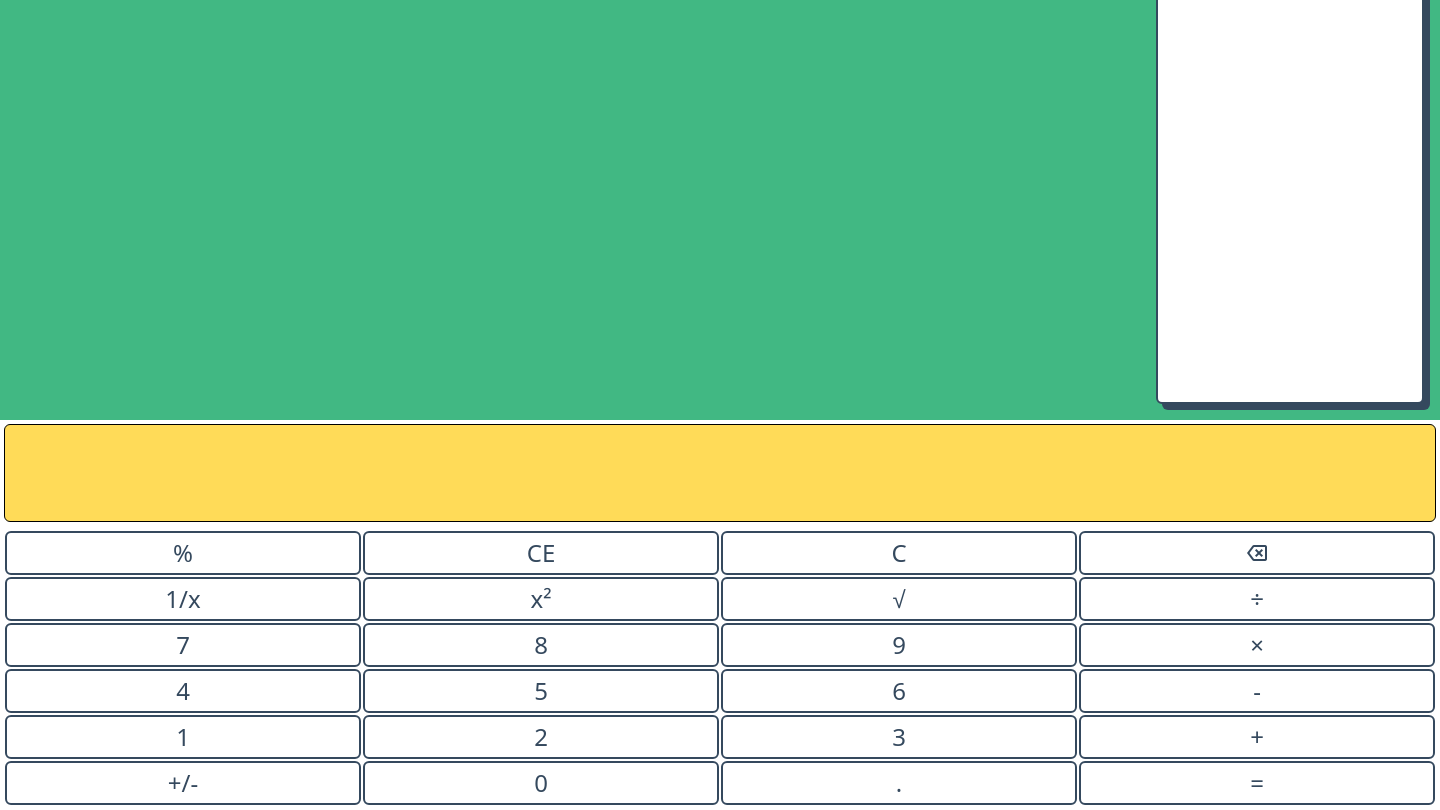
Test case: Component: CalculatorContainer › can append decimal to the rightmost area of entry
The image size is (1440, 810).
(page scrolled)
Click the button with class "digital-button" showing "2": (541, 737) [363,715,719,759]
(page scrolled)
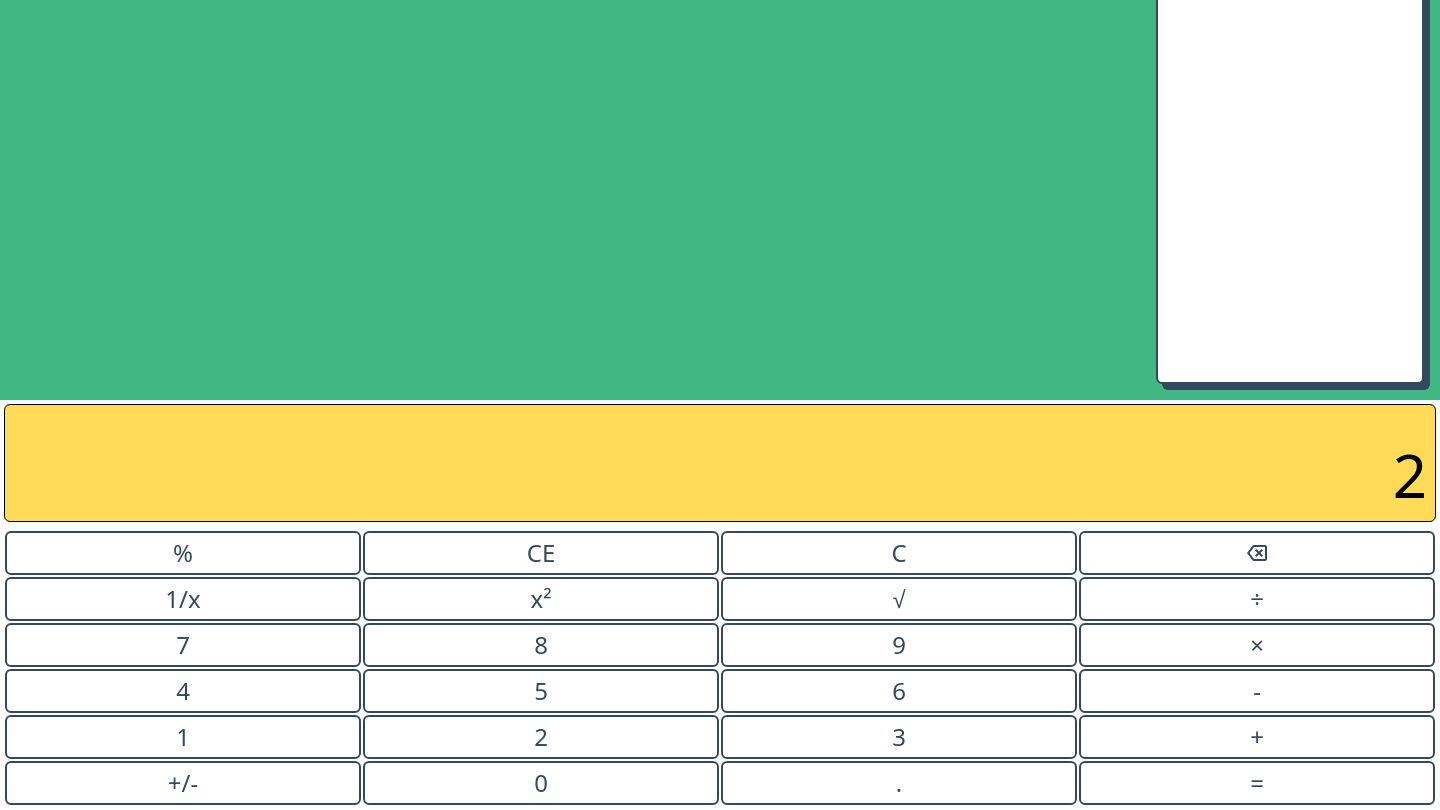
Click the button with class "digital-button" showing ".": (899, 783) [721,761,1077,805]
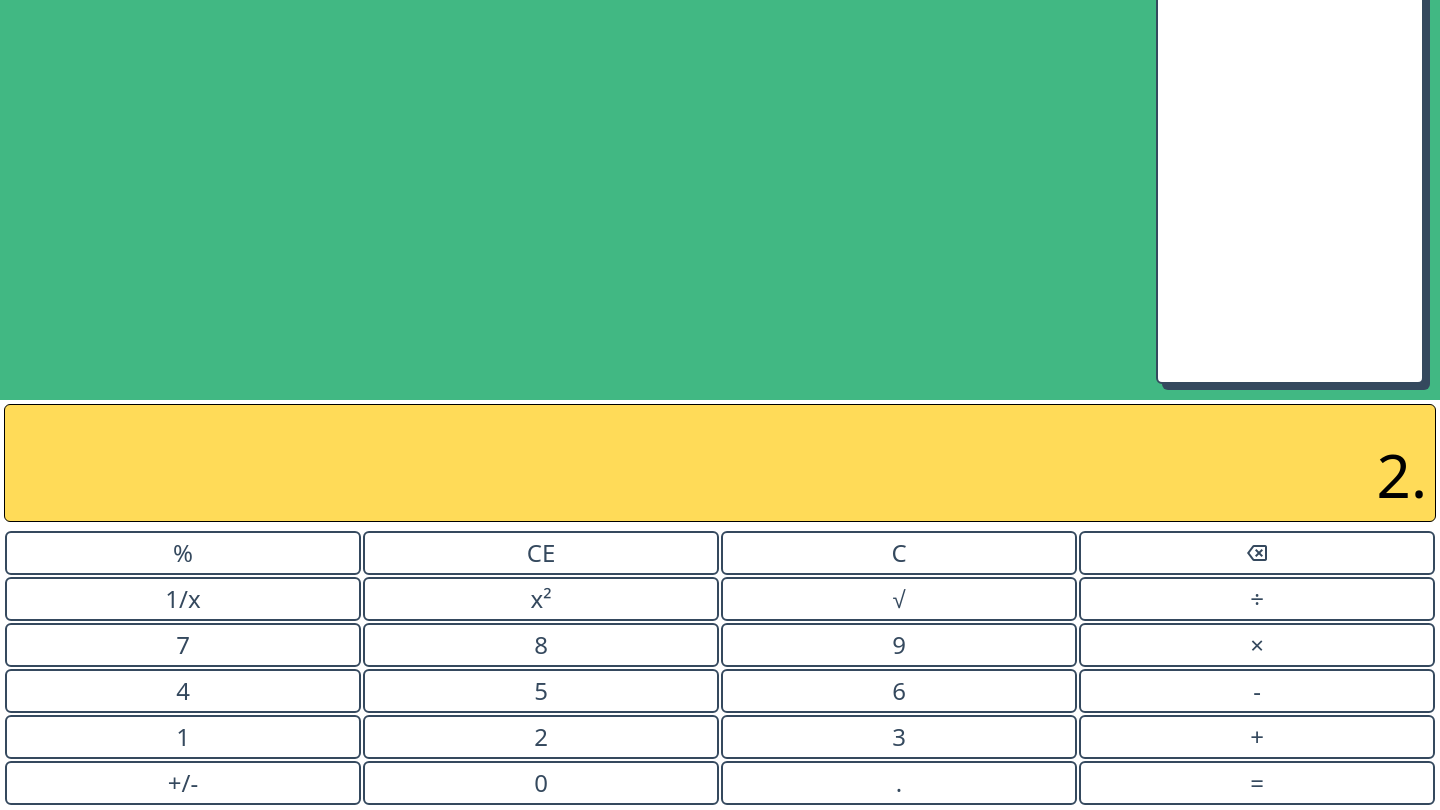
Expected: the text with class "entry-screen" reads "2.", [1377,434,1427,516]
Click the button with class "digital-button" showing "5": (541, 691) [363,669,719,713]
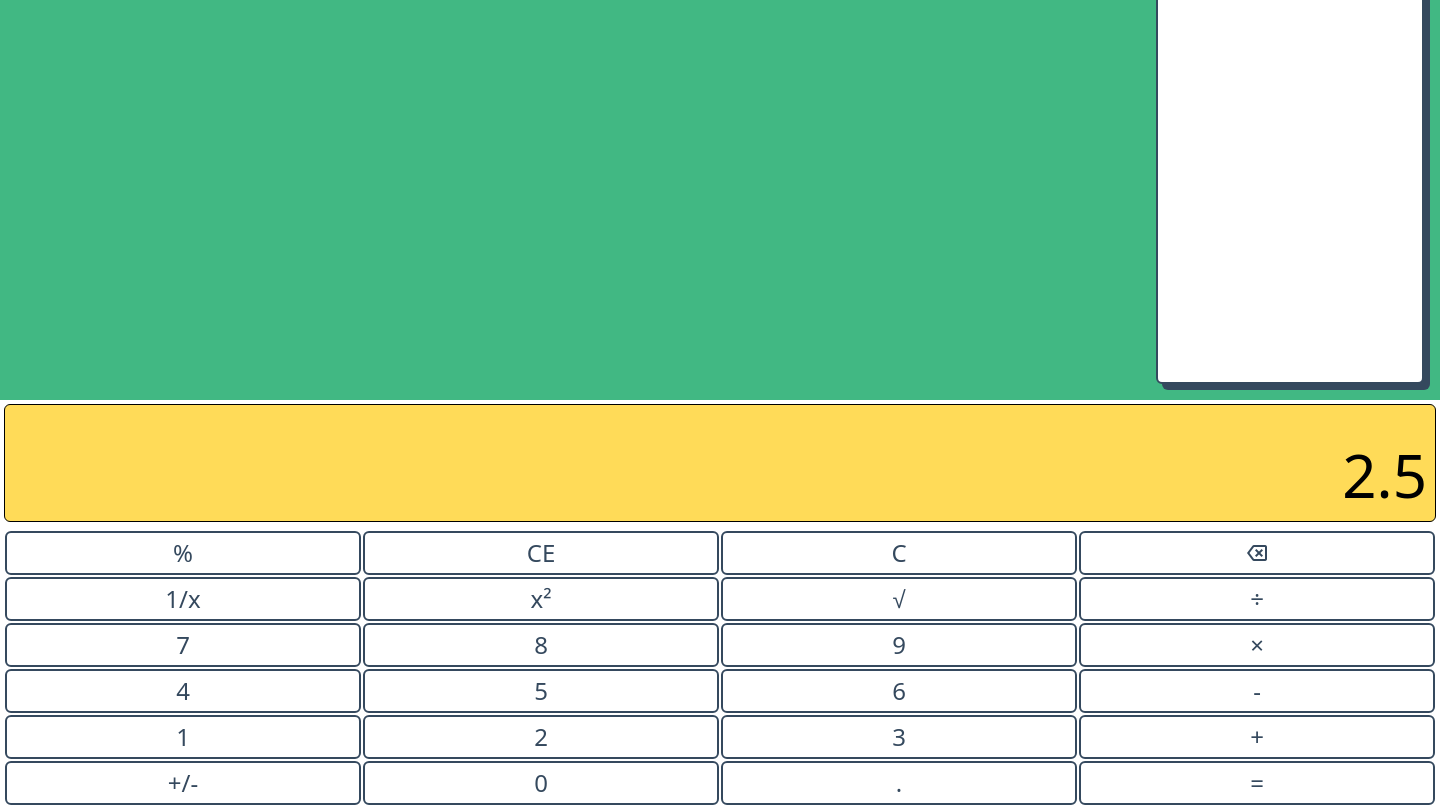
Expected: the text with class "entry-screen" reads "2.5", [1342,434,1427,516]
Click the button with class "digital-button" showing ".": (899, 783) [721,761,1077,805]
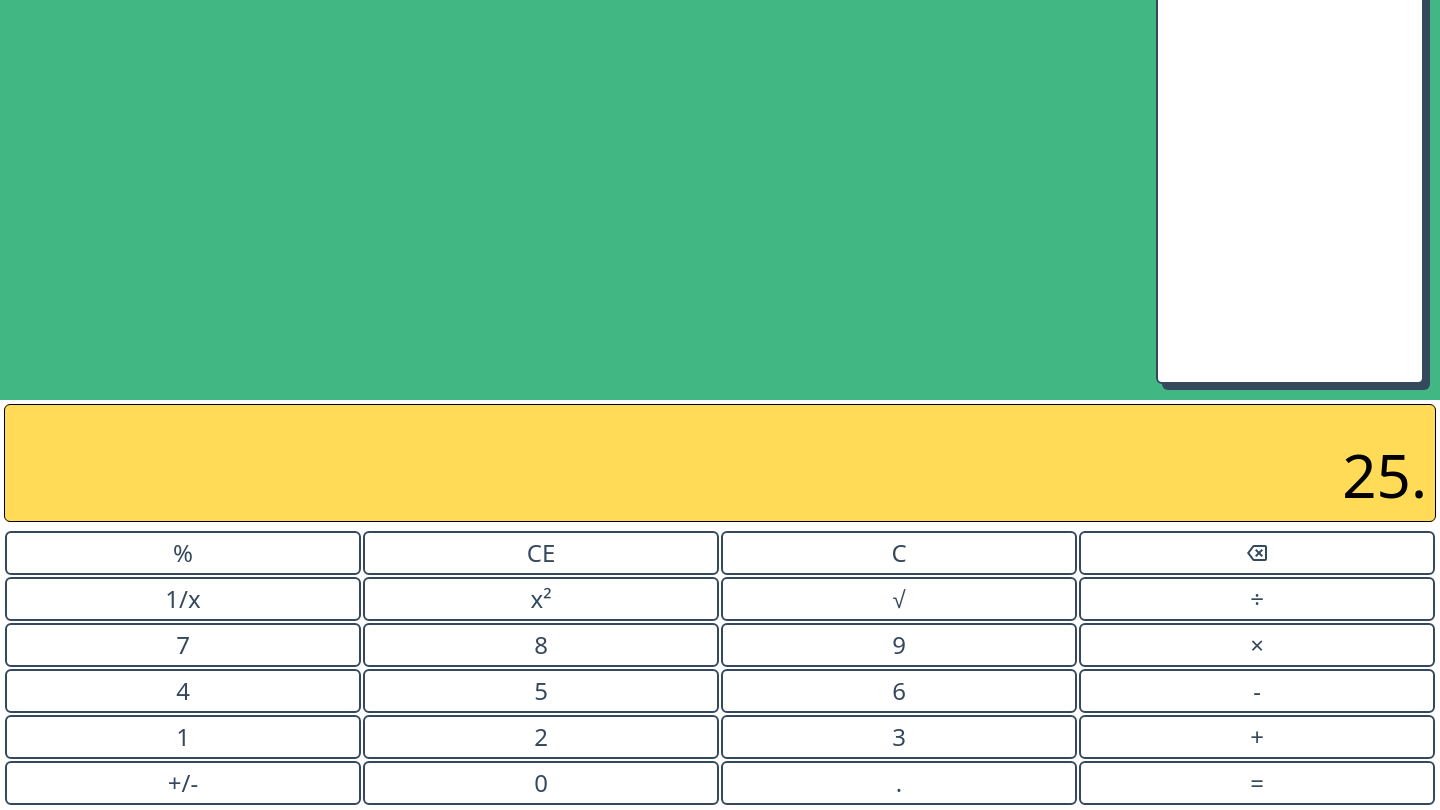
Expected: the text with class "entry-screen" reads "25.", [1342,434,1427,516]
